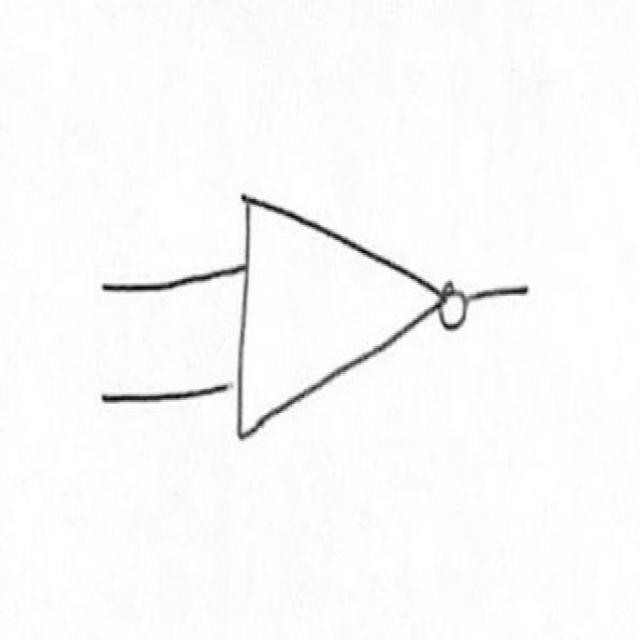NOT: (219, 158, 478, 483)
